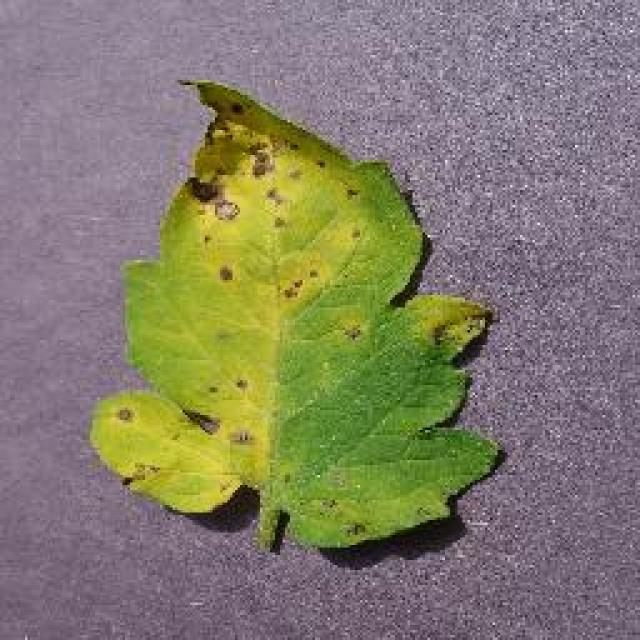Tomato___Septoria_leaf_spot: (98, 80, 498, 545)
